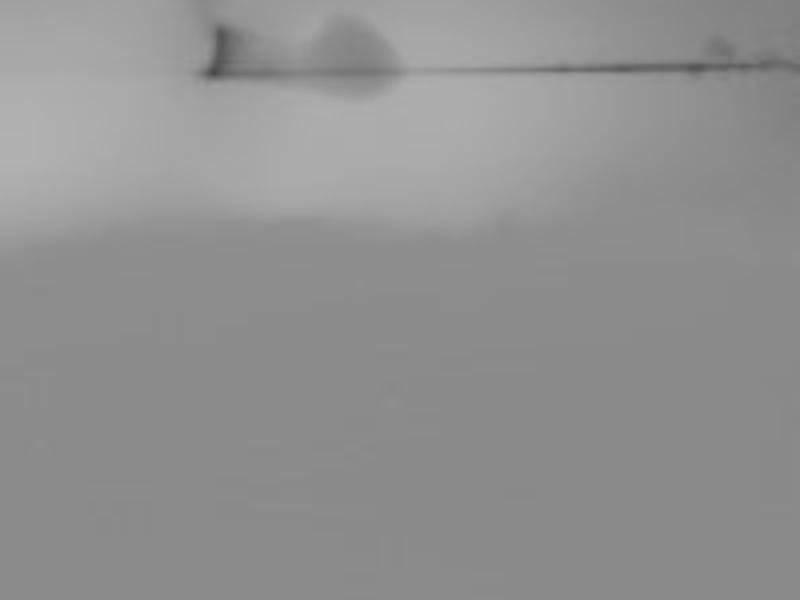defect: (304, 19, 402, 92), (702, 30, 736, 65)
